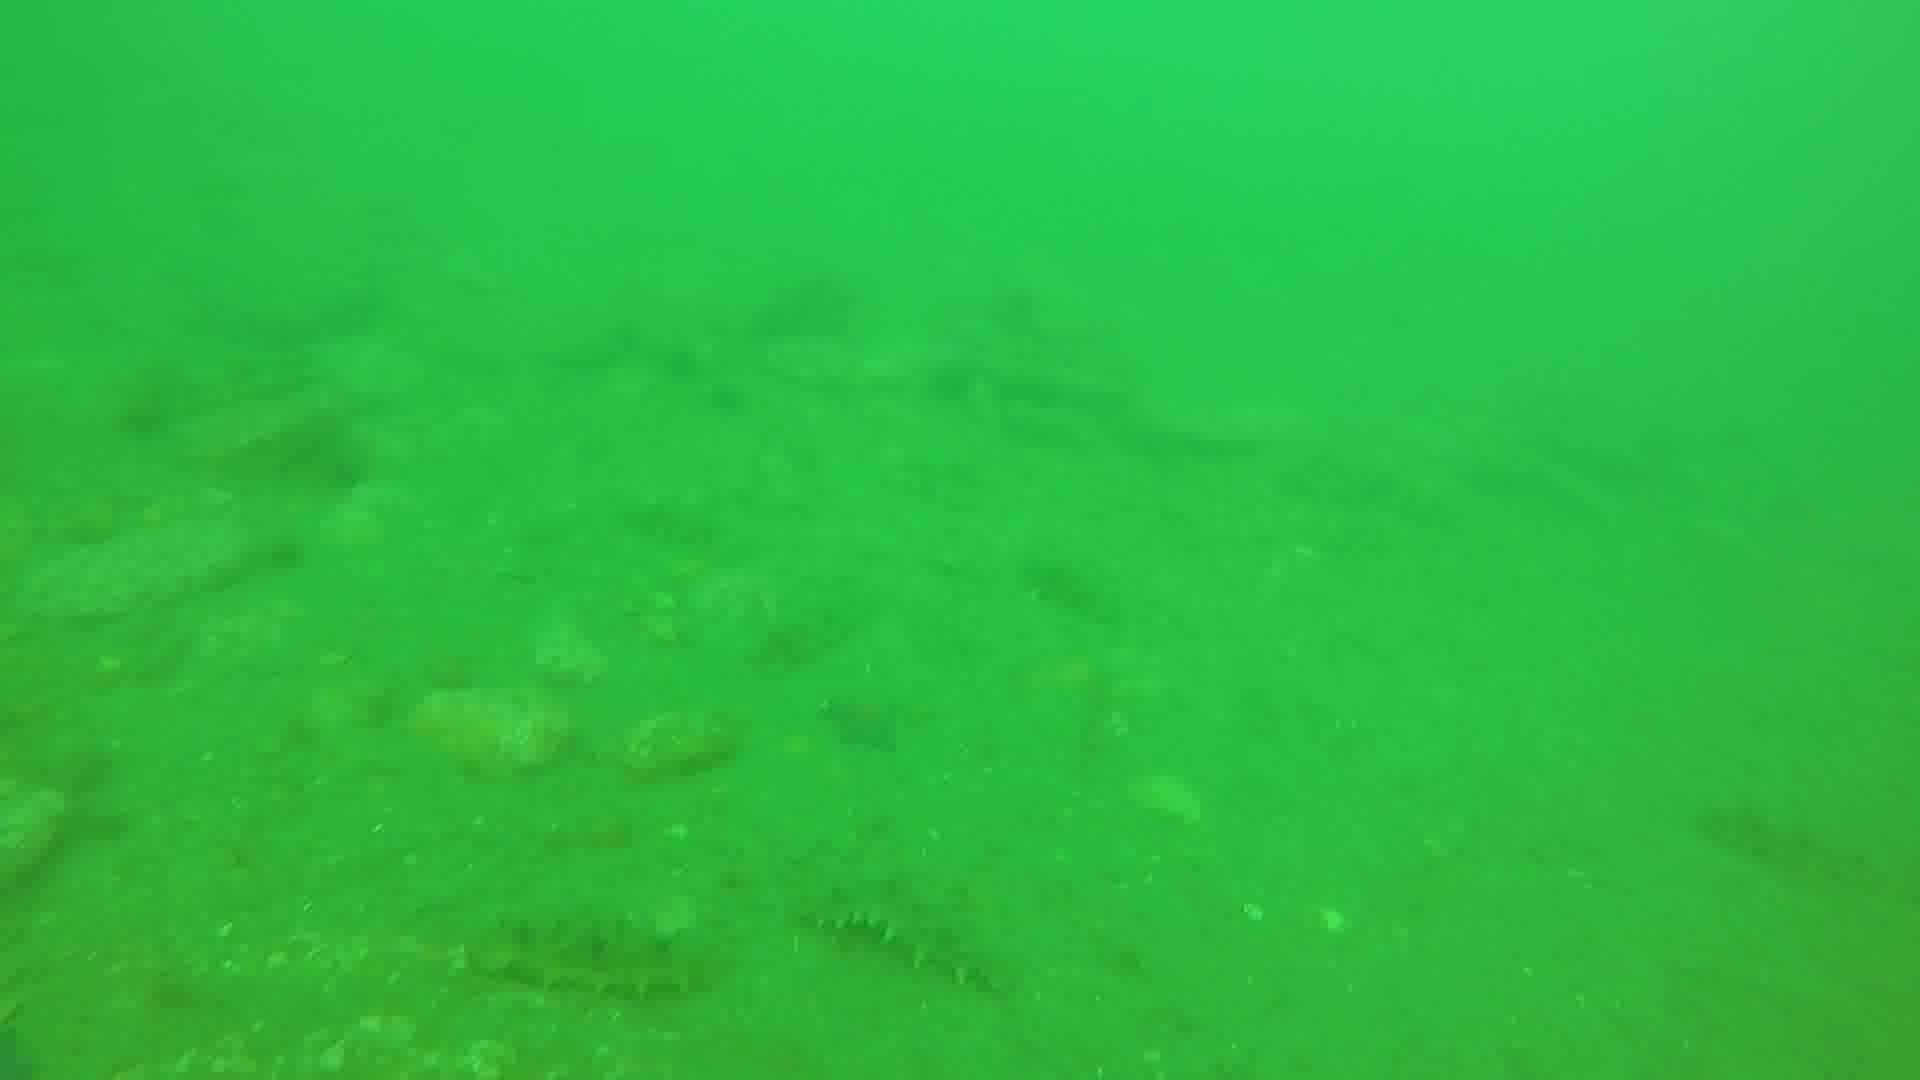holothurian: (795, 880, 1015, 997), (1696, 802, 1894, 897), (492, 915, 717, 994)
starfish: (831, 676, 947, 757)
